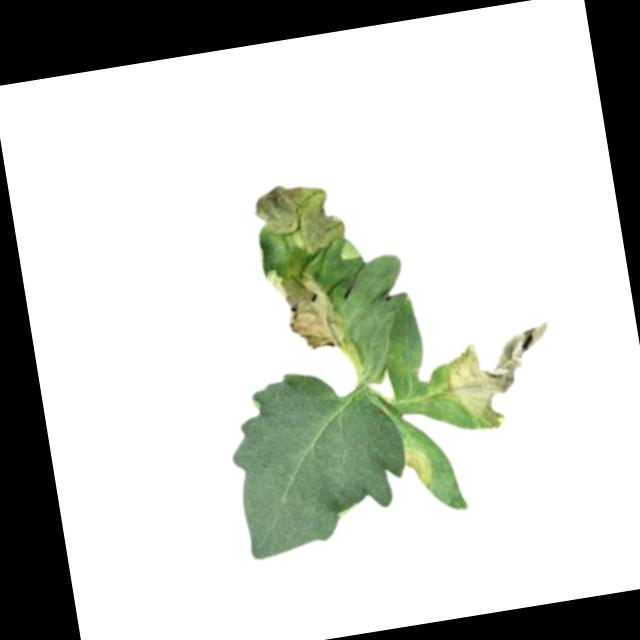Late_blight: (431, 317, 565, 437), (249, 173, 361, 272), (260, 255, 351, 356), (401, 445, 436, 495)
healthy: (218, 356, 415, 563)
